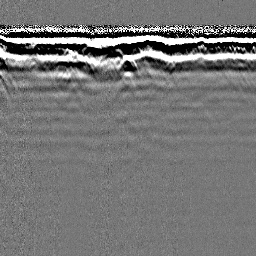cavity: (117, 55, 140, 75)
